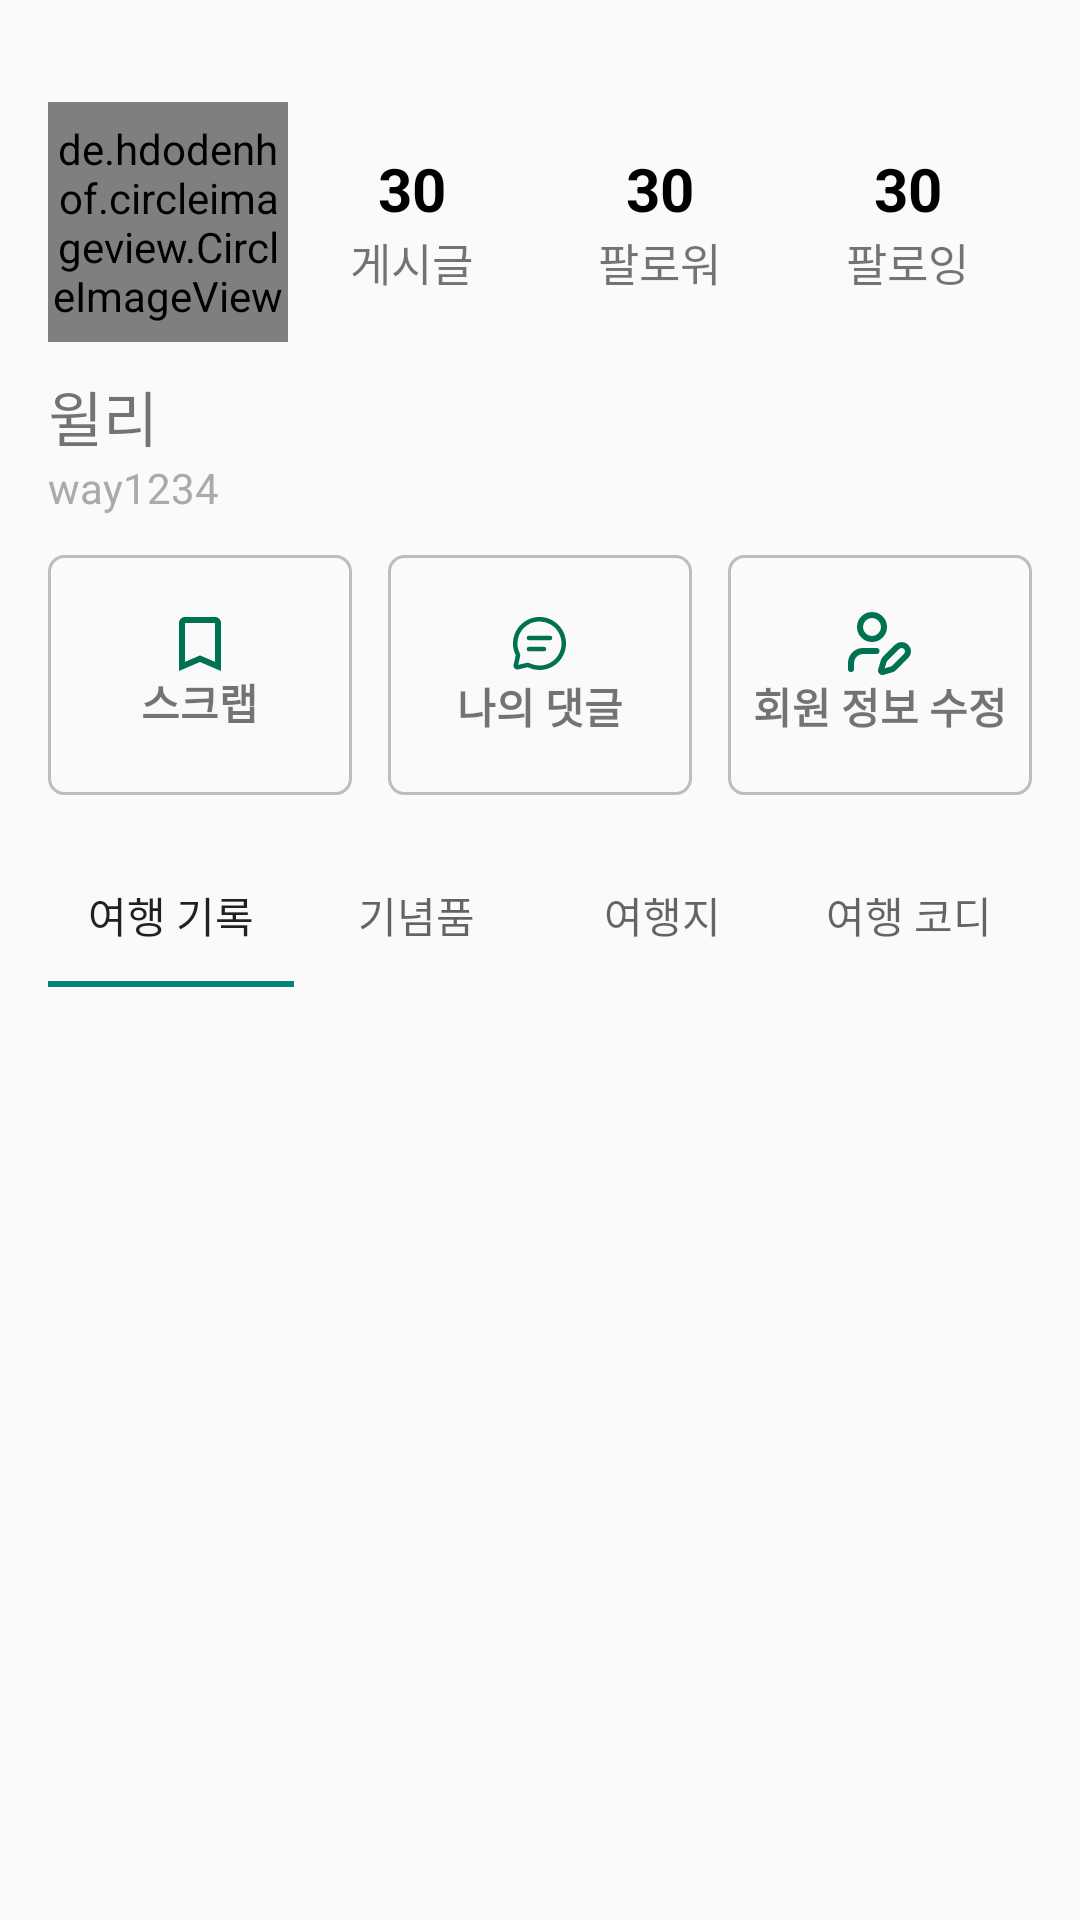

Named icons in this screenshot (1080 x 1920) and their centers, (x,y):
proicons chat: (539,643)
